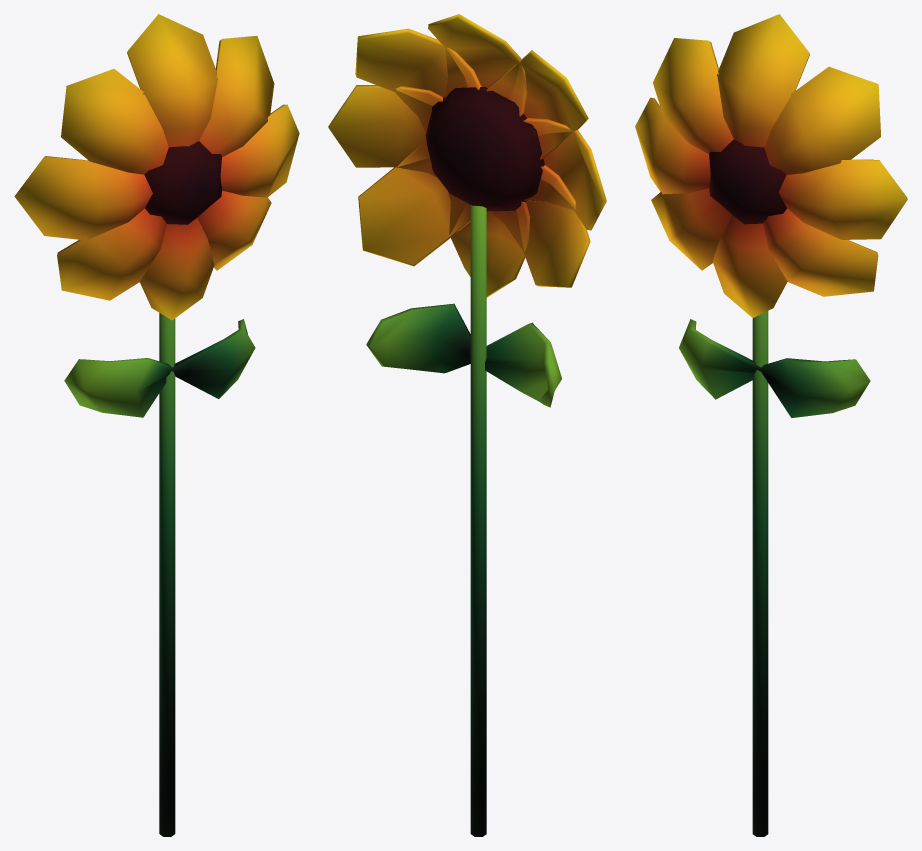
Rendered from Flower_13.fbx.
3 views of the same model, side by side, from view 1: azimuth 30°, elevation 25°; view 2: azimuth 150°, elevation 25°; view 3: azimuth 330°, elevation 25° (orthographic). The views are drawn at different scales.
Visible parts, largest first — view 1: Flower_13; view 2: Flower_13; view 3: Flower_13.
Boxes of the visible parts, x1,y1,x2,y2 form: Flower_13: (14,14,299,836); Flower_13: (328,14,606,836); Flower_13: (635,14,907,836).
Bounding box in the file's own units: 0.2378 × 0.6595 × 0.0659.
